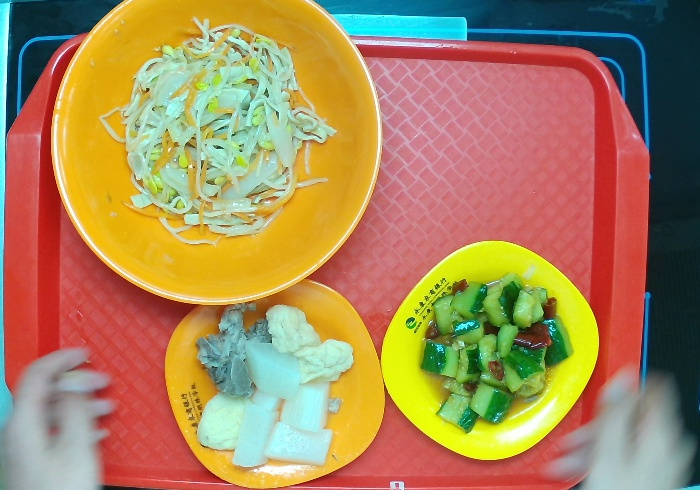YKMZ-Huang_Se_Fang_Die: (377, 237, 599, 462)
YKMZ-Ju_Se_Fang_Die: (161, 273, 389, 490)
YKMZ-Ju_Se_Tang_Wan: (48, 1, 383, 309)
